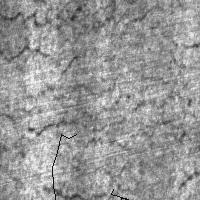crazing: (1, 45, 127, 147), (18, 95, 182, 157), (1, 6, 147, 65), (52, 134, 128, 200), (54, 1, 177, 37)
